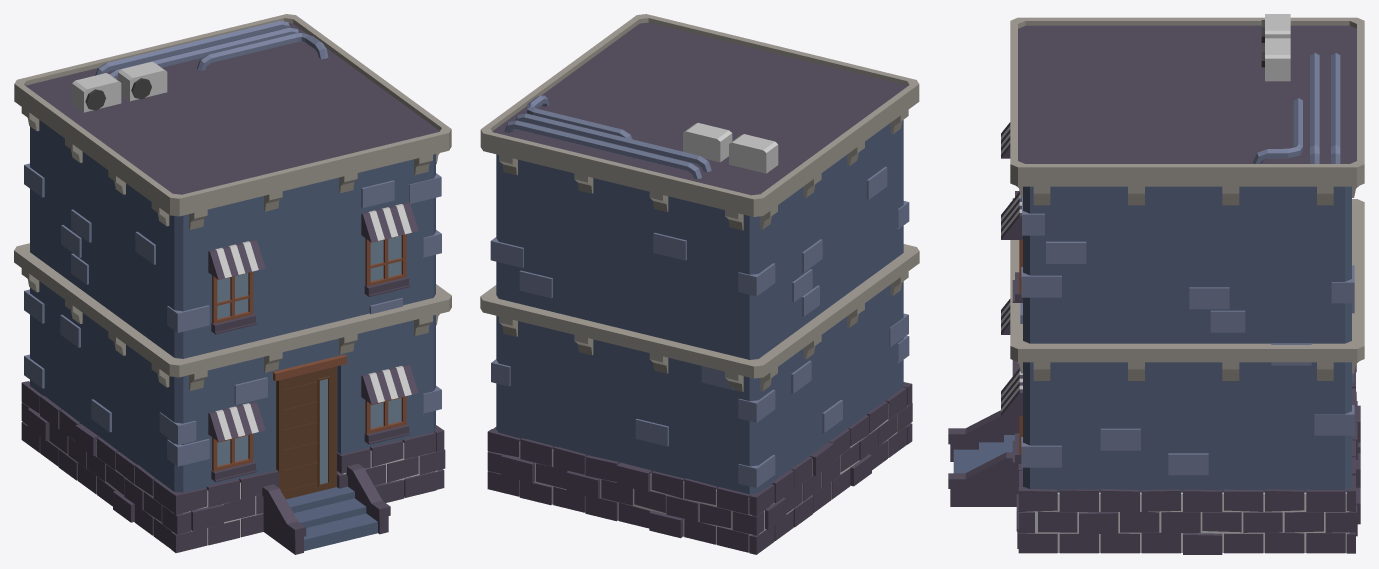
The model's file is 2Story.glb.
The picture shows the model from 3 angles, left to right: view 1: azimuth 30°, elevation 25°; view 2: azimuth 150°, elevation 25°; view 3: azimuth 270°, elevation 25°; orthographic projection. The views are drawn at different scales.
Visible parts, largest first — view 1: 2Story; view 2: 2Story; view 3: 2Story.
Boxes of the visible parts, x1,y1,x2,y2 form: 2Story: (14,14,451,554); 2Story: (480,14,919,554); 2Story: (948,14,1364,554).
Size of the model in its own units: 2.16 by 2.75 by 2.53.
1 material, 1 textured.
